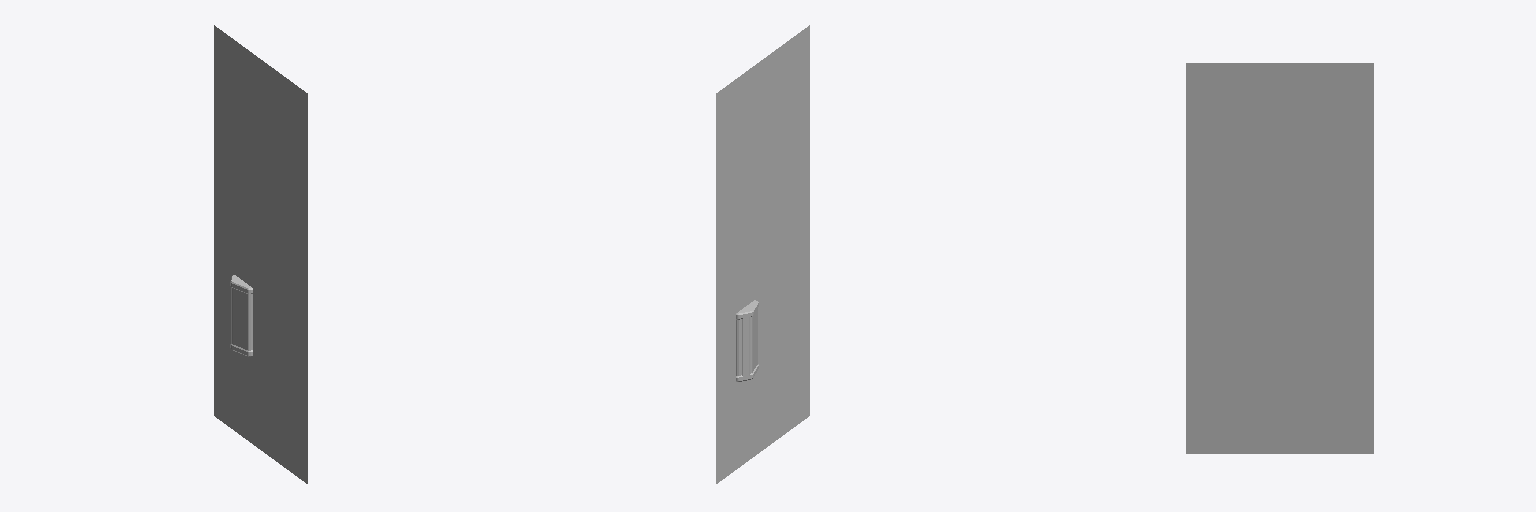
The model's file is side.obj.
3 renders of one model, left to right at view 1: azimuth 30°, elevation 25°; view 2: azimuth 150°, elevation 25°; view 3: azimuth 270°, elevation 25°, orthographic.
Parts seen in each view (by area): view 1: side-1, side-0; view 2: side-1, side-0; view 3: side-1.
Part boxes in pixels (left/top/right/bottom): side-1: left=214, top=25, right=307, bottom=483; side-0: left=230, top=275, right=252, bottom=356; side-1: left=716, top=25, right=809, bottom=483; side-0: left=736, top=300, right=758, bottom=381; side-1: left=1186, top=63, right=1373, bottom=453.
Size of the model in its own units: 0.4291 by 16.26 by 7.11.